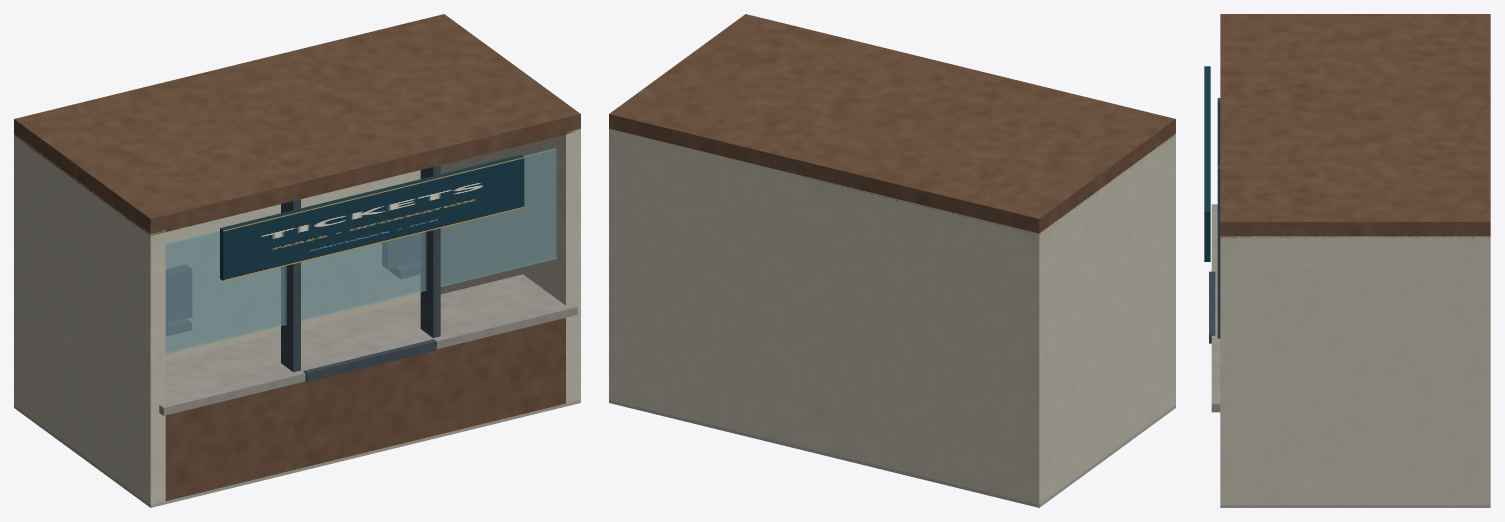
Rendered from PZ_GCR_11_Ticket_Counter_4x2m.glb.
3 renders of one model, left to right at view 1: azimuth 30°, elevation 25°; view 2: azimuth 150°, elevation 25°; view 3: azimuth 270°, elevation 25°, orthographic.
Parts seen in each view (by area): view 1: Ticket_Counter_4x2m__Ticket_Kiosk_Overhead, Ticket_Counter_4x2m__Ticket_Kiosk_LeftWall, Ticket_Counter_4x2m__Ticket_Counter_Front, Ticket_Counter_4x2m__Ticket_Kiosk_Service_Glass_Upper, Ticket_Counter_4x2m__Ticket_Kiosk_RearWall, Ticket_Counter_4x2m__Ticket_Counter_StoneTop, Ticket_Counter_4x2m__Ticket_Kiosk_RightWall, Ticket_Counter_4x2m__Ticket_Kiosk_UpperSign, Ticket_Counter_4x2m__Ticket_Service_WindowMullion, Ticket_Counter_4x2m__Ticket_Terminal_Screen, Ticket_Counter_4x2m__Ticket_Kiosk_Platform, Ticket_Counter_4x2m__Ticket_Sill_ExchangeSlot (+1 smaller); view 2: Ticket_Counter_4x2m__Ticket_Kiosk_RearWall, Ticket_Counter_4x2m__Ticket_Kiosk_Overhead, Ticket_Counter_4x2m__Ticket_Kiosk_LeftWall, Ticket_Counter_4x2m__Ticket_Kiosk_RightWall, Ticket_Counter_4x2m__Ticket_Kiosk_Platform; view 3: Ticket_Counter_4x2m__Ticket_Kiosk_RightWall, Ticket_Counter_4x2m__Ticket_Kiosk_Overhead, Ticket_Counter_4x2m__Ticket_Kiosk_RearWall, Ticket_Counter_4x2m__Ticket_Counter_StoneTop, Ticket_Counter_4x2m__Ticket_Kiosk_UpperSign, Ticket_Counter_4x2m__Ticket_Service_WindowMullion, Ticket_Counter_4x2m__Ticket_Kiosk_Platform, Ticket_Counter_4x2m__Ticket_Sill_ExchangeSlot.
Part boxes in pixels (x1,y1,x2,y2): Ticket_Counter_4x2m__Ticket_Kiosk_Overhead: [14, 14, 580, 235]; Ticket_Counter_4x2m__Ticket_Kiosk_LeftWall: [14, 134, 165, 504]; Ticket_Counter_4x2m__Ticket_Counter_Front: [165, 318, 565, 500]; Ticket_Counter_4x2m__Ticket_Kiosk_Service_Glass_Upper: [165, 148, 557, 353]; Ticket_Counter_4x2m__Ticket_Kiosk_RearWall: [14, 134, 420, 410]; Ticket_Counter_4x2m__Ticket_Counter_StoneTop: [159, 274, 577, 415]; Ticket_Counter_4x2m__Ticket_Kiosk_RightWall: [440, 128, 580, 403]; Ticket_Counter_4x2m__Ticket_Kiosk_UpperSign: [220, 154, 524, 280]; Ticket_Counter_4x2m__Ticket_Service_WindowMullion: [281, 164, 440, 372]; Ticket_Counter_4x2m__Ticket_Terminal_Screen: [166, 233, 420, 322]; Ticket_Counter_4x2m__Ticket_Kiosk_Platform: [14, 400, 580, 507]; Ticket_Counter_4x2m__Ticket_Sill_ExchangeSlot: [303, 339, 436, 381]; Ticket_Counter_4x2m__Ticket_Kiosk_RearWall: [609, 129, 1047, 504]; Ticket_Counter_4x2m__Ticket_Kiosk_Overhead: [609, 14, 1175, 234]; Ticket_Counter_4x2m__Ticket_Kiosk_LeftWall: [1024, 134, 1175, 504]; Ticket_Counter_4x2m__Ticket_Kiosk_RightWall: [609, 128, 623, 403]; Ticket_Counter_4x2m__Ticket_Kiosk_Platform: [609, 400, 1175, 507]; Ticket_Counter_4x2m__Ticket_Kiosk_RightWall: [1220, 236, 1490, 504]; Ticket_Counter_4x2m__Ticket_Kiosk_Overhead: [1220, 14, 1490, 238]; Ticket_Counter_4x2m__Ticket_Kiosk_RearWall: [1474, 236, 1490, 504]; Ticket_Counter_4x2m__Ticket_Counter_StoneTop: [1211, 204, 1220, 412]; Ticket_Counter_4x2m__Ticket_Kiosk_UpperSign: [1204, 66, 1210, 261]; Ticket_Counter_4x2m__Ticket_Service_WindowMullion: [1217, 98, 1220, 338]; Ticket_Counter_4x2m__Ticket_Kiosk_Platform: [1220, 505, 1490, 507]; Ticket_Counter_4x2m__Ticket_Sill_ExchangeSlot: [1209, 271, 1215, 343].
Bounding box in the file's own units: 4 × 2.57 × 2.33.
Materials: 7 (7 with a texture image).
